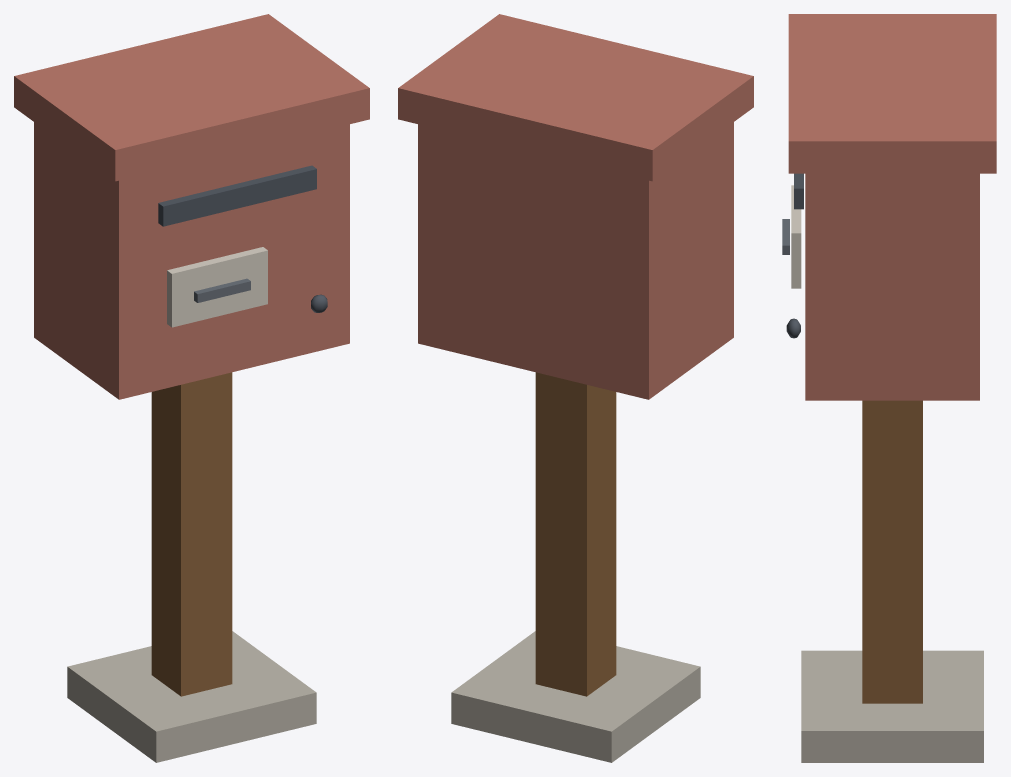
File: komachi-mailbox.glb
3 views of the same model, side by side, from view 1: azimuth 30°, elevation 25°; view 2: azimuth 150°, elevation 25°; view 3: azimuth 270°, elevation 25° (orthographic). The views are drawn at different scales.
Visible parts, largest first — view 1: Mailbox; view 2: Mailbox; view 3: Mailbox.
Part boxes in pixels (box(x1,y1,x2,y2)): Mailbox: box(14, 14, 369, 762); Mailbox: box(398, 14, 753, 762); Mailbox: box(782, 14, 996, 762).
Size of the model in its own units: 0.119 by 0.281 by 0.0845.
